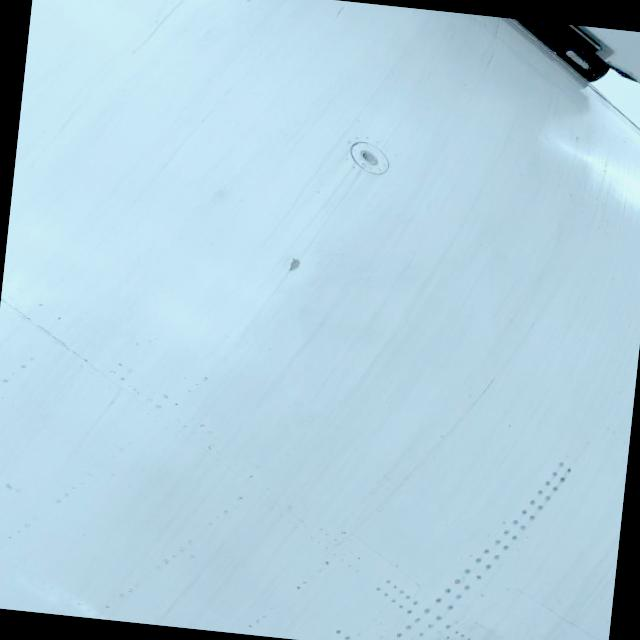crack: (273, 255, 310, 283), (474, 371, 498, 398)
